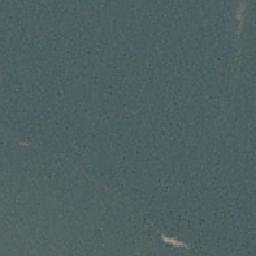debris: (159, 234, 187, 248)
